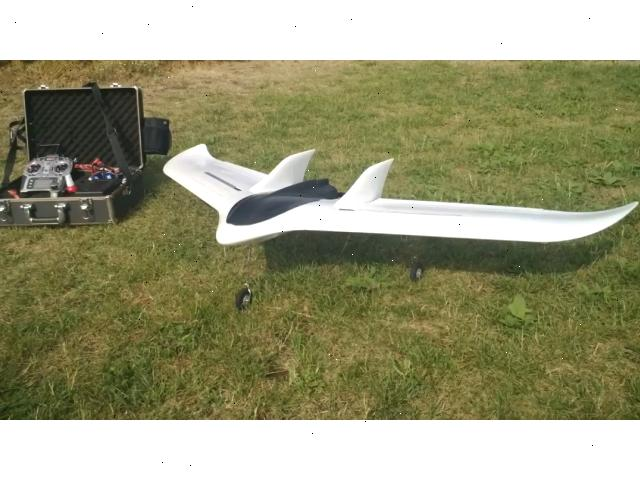Anti-Drone: (156, 123, 640, 299)
